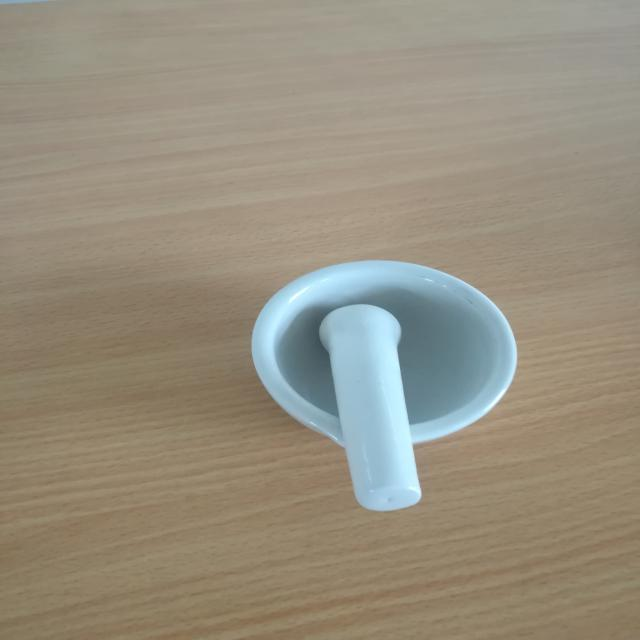Porcelain_Mortar Pestle: (181, 208, 559, 548)
